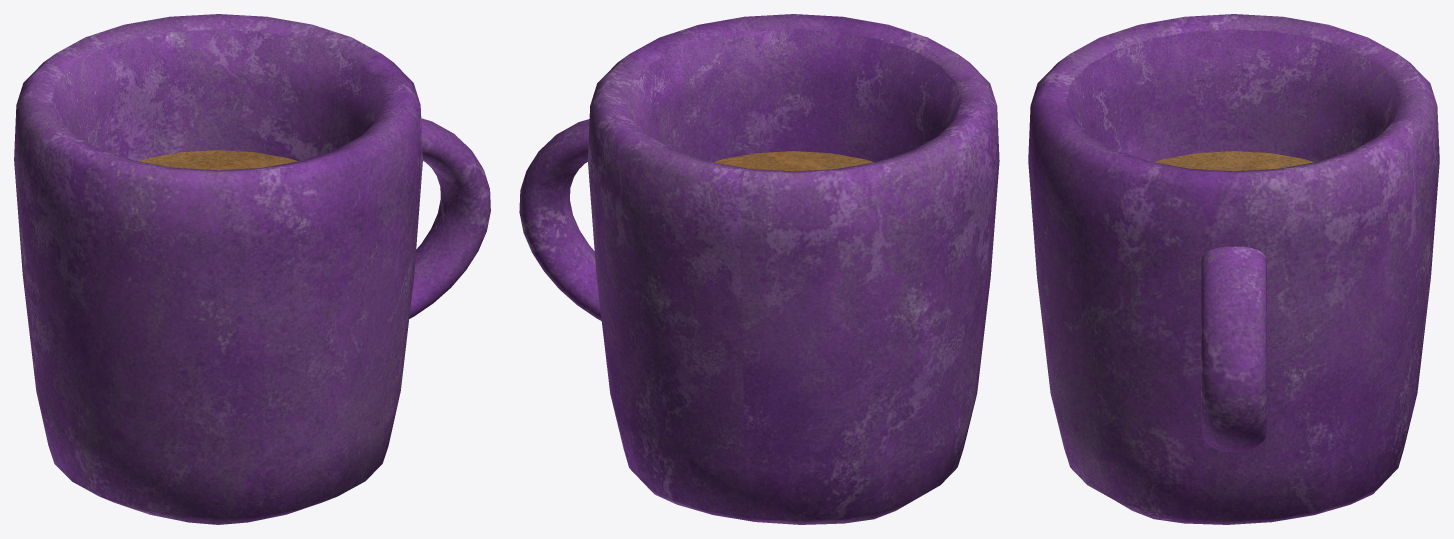
Rendered from Mug With Coffee.fbx.
The picture shows the model from 3 angles, left to right: view 1: azimuth 30°, elevation 25°; view 2: azimuth 150°, elevation 25°; view 3: azimuth 270°, elevation 25°; orthographic projection.
Visible parts, largest first — view 1: Cylinder; view 2: Cylinder; view 3: Cylinder.
Boxes of the visible parts, left/top/right/bottom form: Cylinder: left=14, top=14, right=490, bottom=524; Cylinder: left=519, top=14, right=999, bottom=524; Cylinder: left=1028, top=14, right=1439, bottom=524.
Bounding box in the file's own units: 30.27 × 24.01 × 24.17.
Materials: 1 (1 with a texture image).
